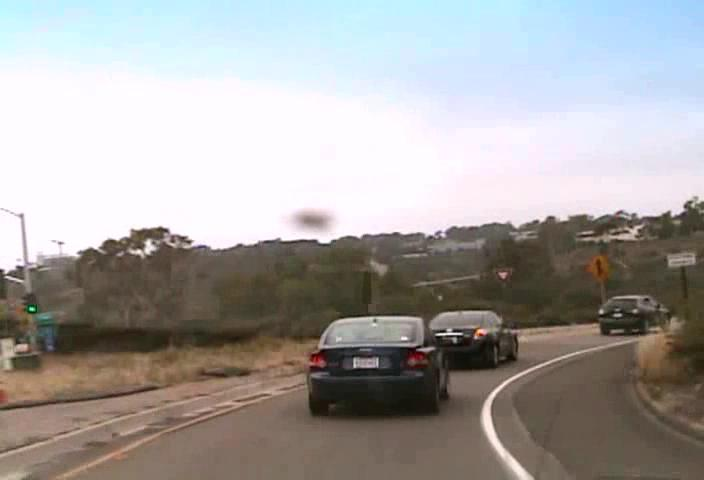merge: (584, 251, 612, 283)
